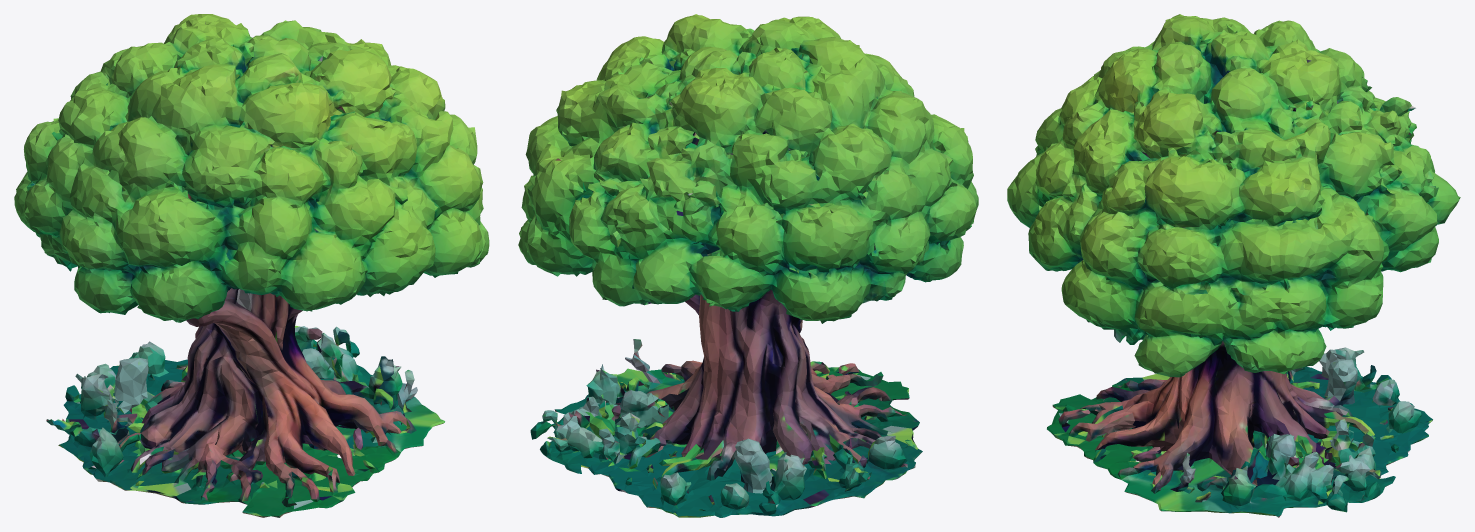
File: tree_ancient_great_windrise.glb
3 renders of one model, left to right at view 1: azimuth 30°, elevation 25°; view 2: azimuth 150°, elevation 25°; view 3: azimuth 270°, elevation 25°, orthographic. The views are drawn at different scales.
Parts seen in each view (by area): view 1: tmpebcnwlaf.ply; view 2: tmpebcnwlaf.ply; view 3: tmpebcnwlaf.ply.
Part boxes in pixels (x1,y1,x2,y2): tmpebcnwlaf.ply: [14, 14, 489, 517]; tmpebcnwlaf.ply: [518, 14, 978, 517]; tmpebcnwlaf.ply: [1007, 14, 1460, 517].
Size of the model in its own units: 1.99 by 1.86 by 1.97.
Materials: 1 (1 with a texture image).
